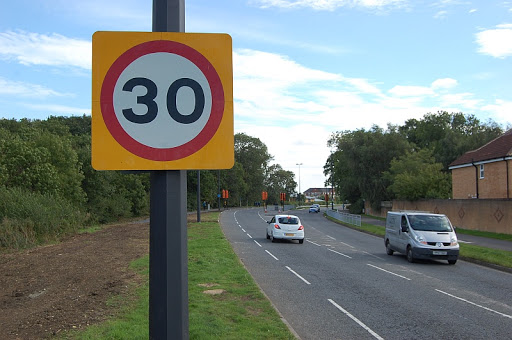30 Km Hiz Siniri: (98, 35, 227, 166)
